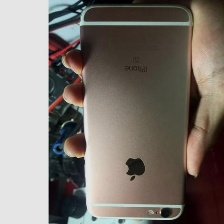phone: (77, 0, 197, 222)
